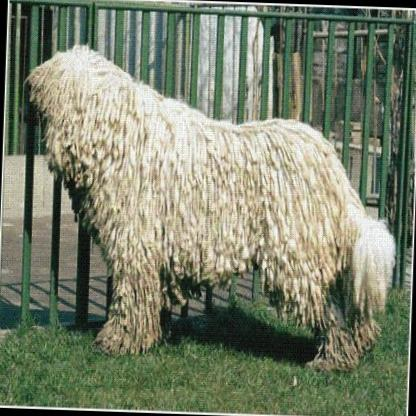komondor: (13, 39, 402, 374)
